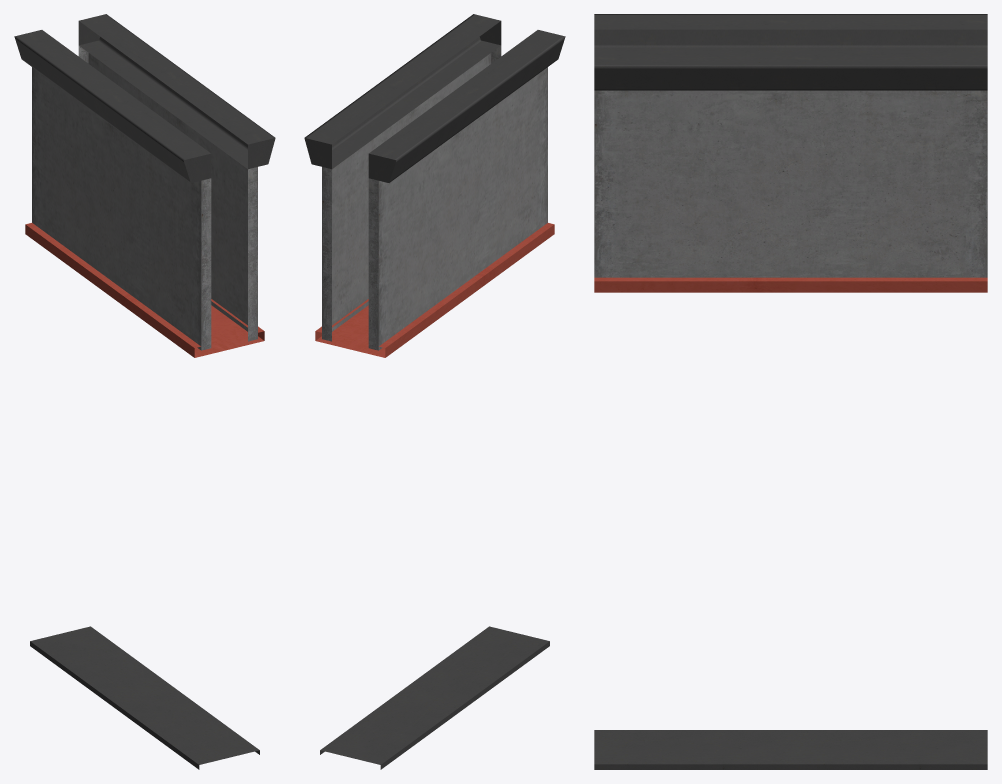
The model's file is SM_dev_wall_glass_holder_200_x_400_c.fbx.
The picture shows the model from 3 angles, left to right: view 1: azimuth 30°, elevation 25°; view 2: azimuth 150°, elevation 25°; view 3: azimuth 270°, elevation 25°; orthographic projection. The views are drawn at different scales.
Parts seen in each view (by area): view 1: polySurface649, polySurface645, polySurface648; view 2: polySurface649, polySurface645, polySurface648; view 3: polySurface649, polySurface645, polySurface648.
Boxes of the visible parts, <box> form: polySurface649: <box>32,46,257,350</box>; polySurface645: <box>14,14,275,769</box>; polySurface648: <box>25,223,264,357</box>; polySurface649: <box>322,46,547,350</box>; polySurface645: <box>304,14,565,769</box>; polySurface648: <box>315,223,554,357</box>; polySurface649: <box>594,90,987,277</box>; polySurface645: <box>594,14,987,769</box>; polySurface648: <box>594,277,987,292</box>.
Size of the model in its own units: 0.6282 by 4 by 2.
